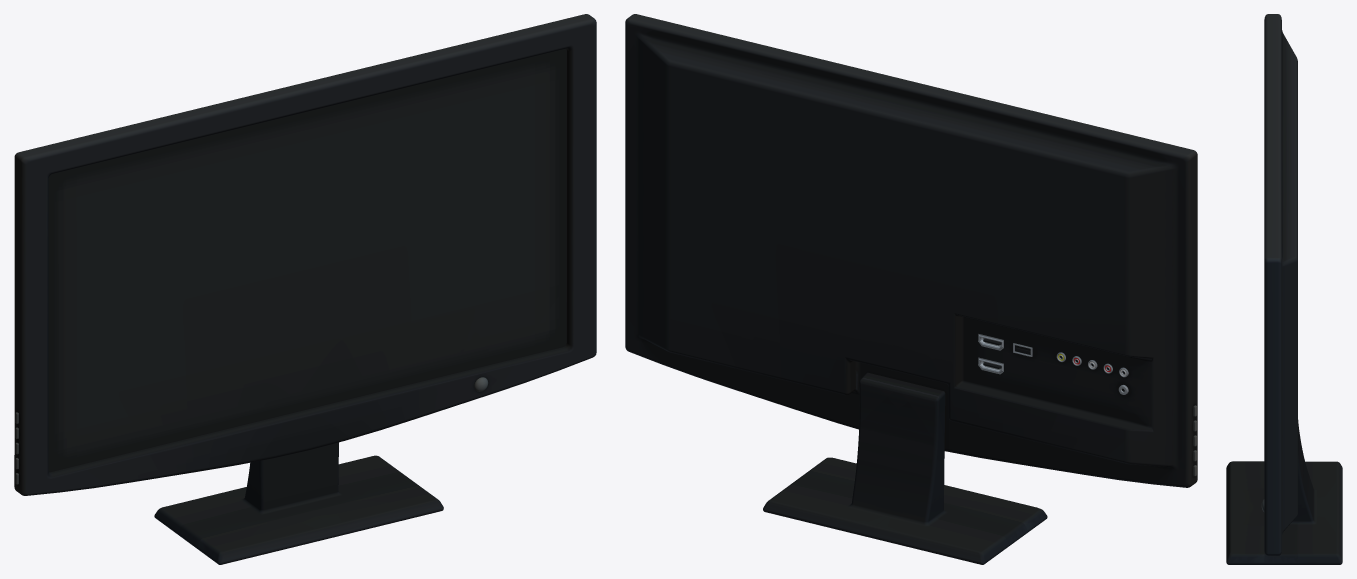
File: Flat Screen TV.glb
The picture shows the model from 3 angles, left to right: view 1: azimuth 30°, elevation 25°; view 2: azimuth 150°, elevation 25°; view 3: azimuth 270°, elevation 25°; orthographic projection. The views are drawn at different scales.
Visible parts, largest first — view 1: flat_screen_tv.1; view 2: flat_screen_tv.1; view 3: flat_screen_tv.1.
Part boxes in pixels (left/top/right/bottom): flat_screen_tv.1: left=14, top=14, right=596, bottom=564; flat_screen_tv.1: left=625, top=14, right=1197, bottom=564; flat_screen_tv.1: left=1226, top=14, right=1342, bottom=564.
Bounding box in the file's own units: 0.0923 × 0.0663 × 0.0183.
Materials: 1 (1 with a texture image).
